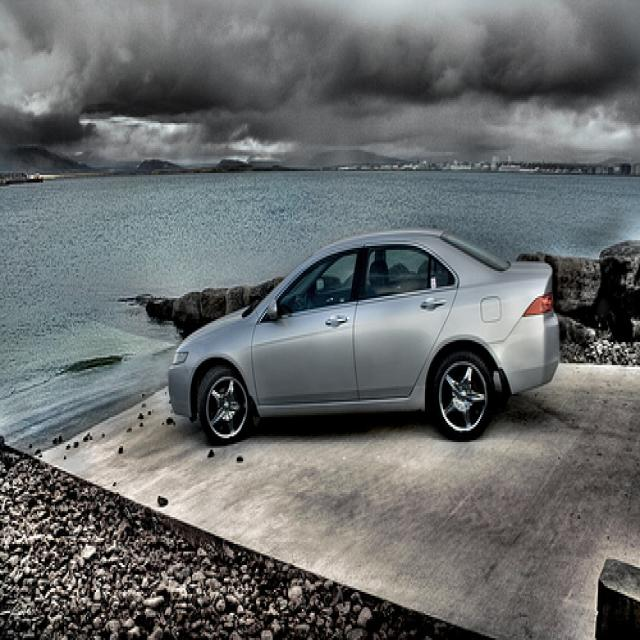Car: (164, 218, 566, 452)
